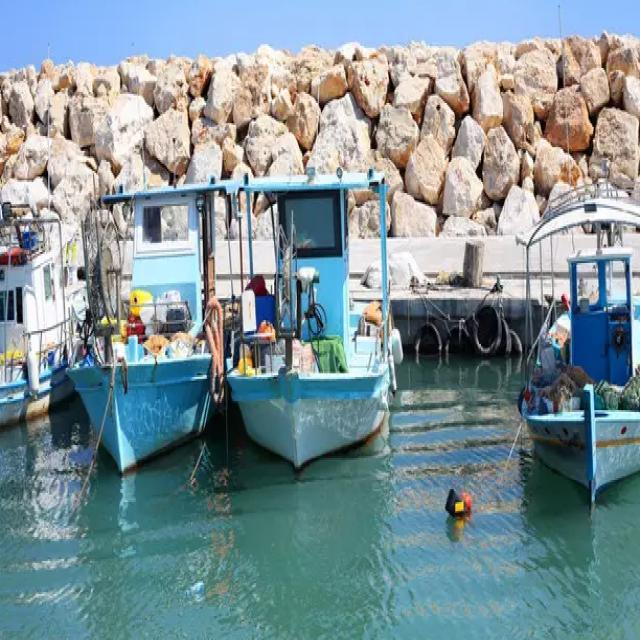fishing boat: (229, 161, 388, 476), (70, 168, 220, 477), (513, 175, 640, 500), (0, 187, 75, 441)
